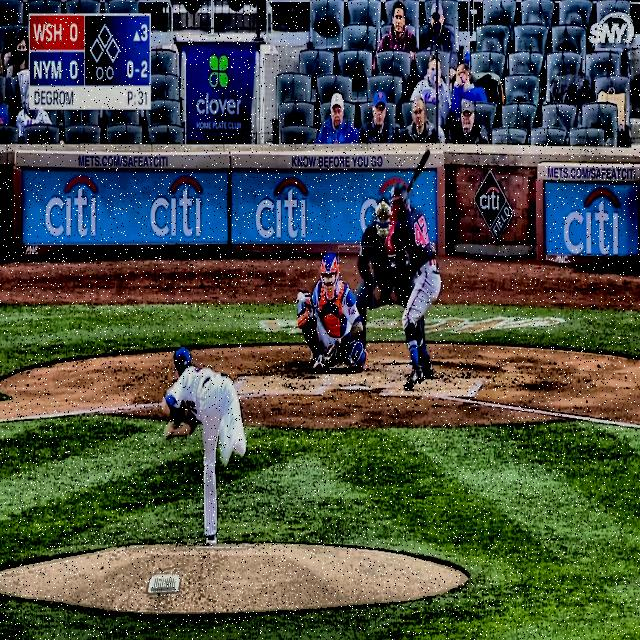baseball: (298, 292, 304, 302)
